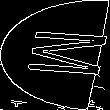M_E: (5, 29, 105, 81)
